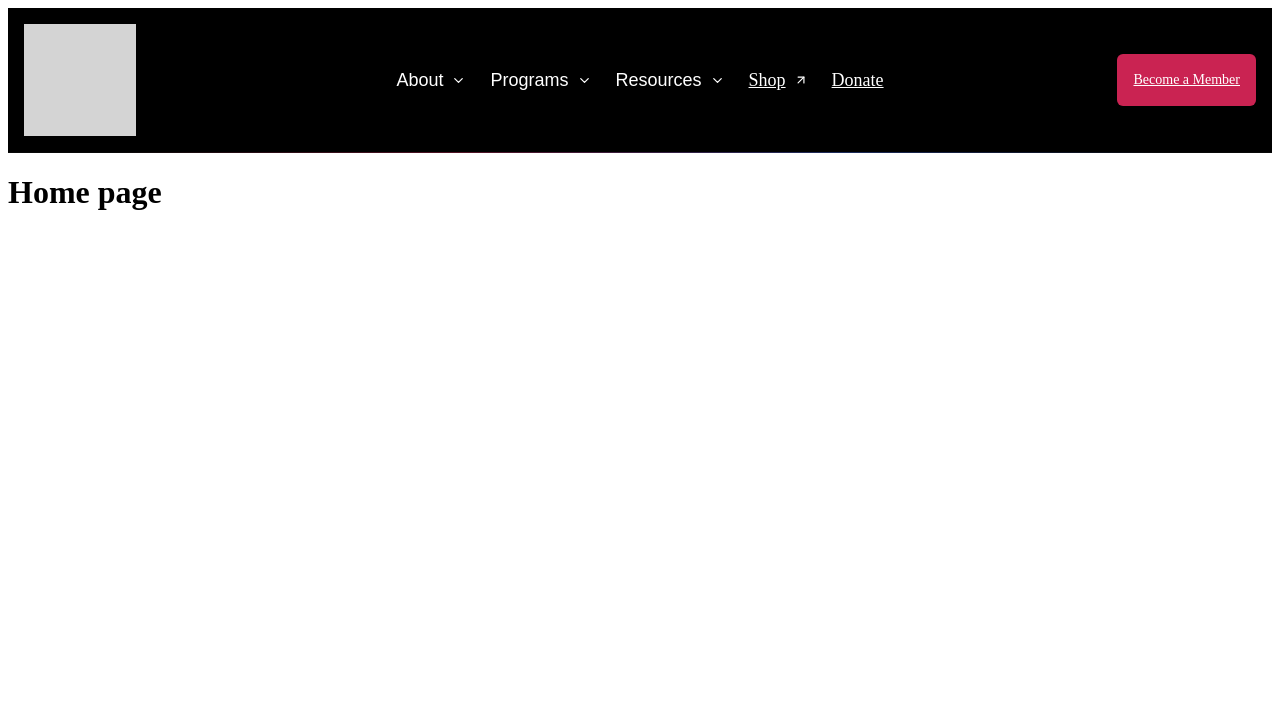
Test case: grouped navigation › opens programs and navigates to mentorship, closing the dropdown
Check: the link "Mentorship" is not shown
What coordinates should you click on to do the following:
click the button "Programs"
I would click on:
 (541, 80)
Its box is [486,62,596,98].
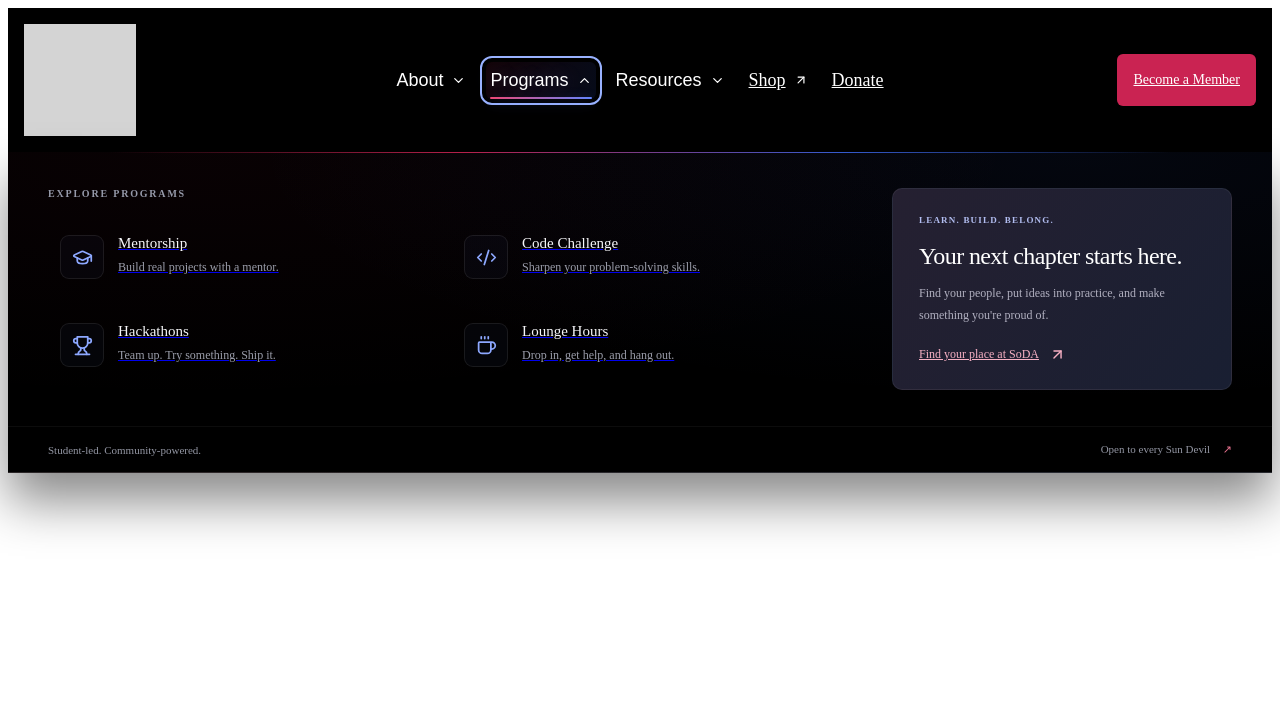
What coordinates should you click on to do the following:
click the link "Mentorship"
I would click on:
 (169, 257)
Its box is [60,235,279,279].
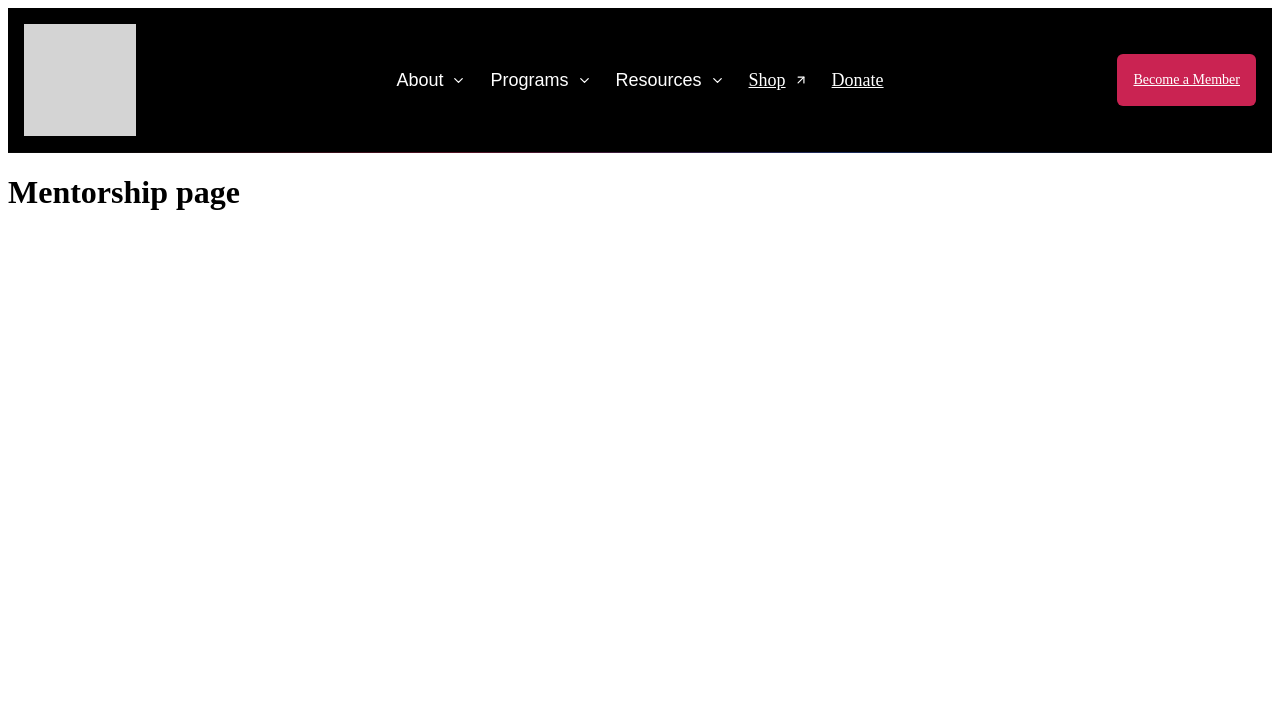
Check: the heading "Mentorship page" is shown, box [8,174,240,210]
Check: the button "Programs" is collapsed, box [486,62,596,98]
